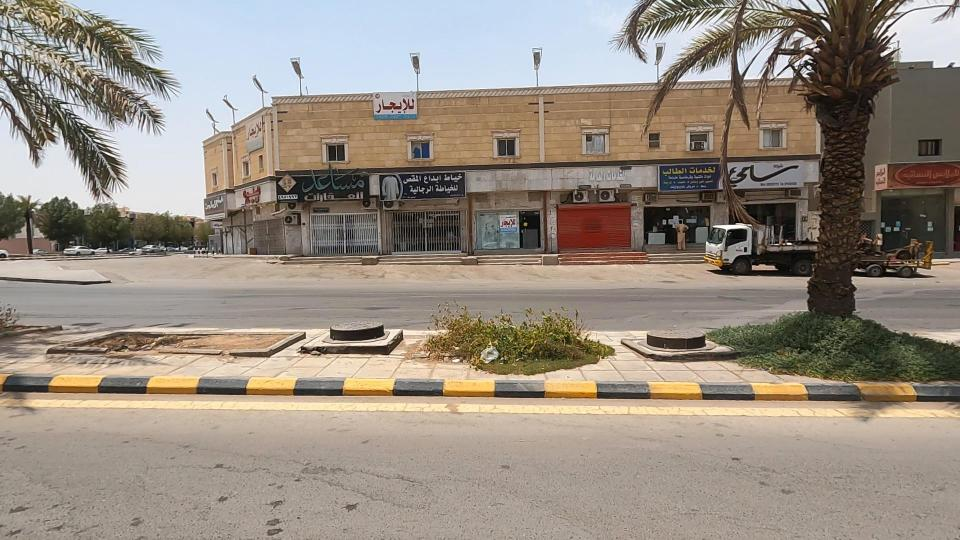CLUTTER_SIDEWALK: (15, 294, 340, 388)
GARBAGE: (434, 316, 532, 390)
